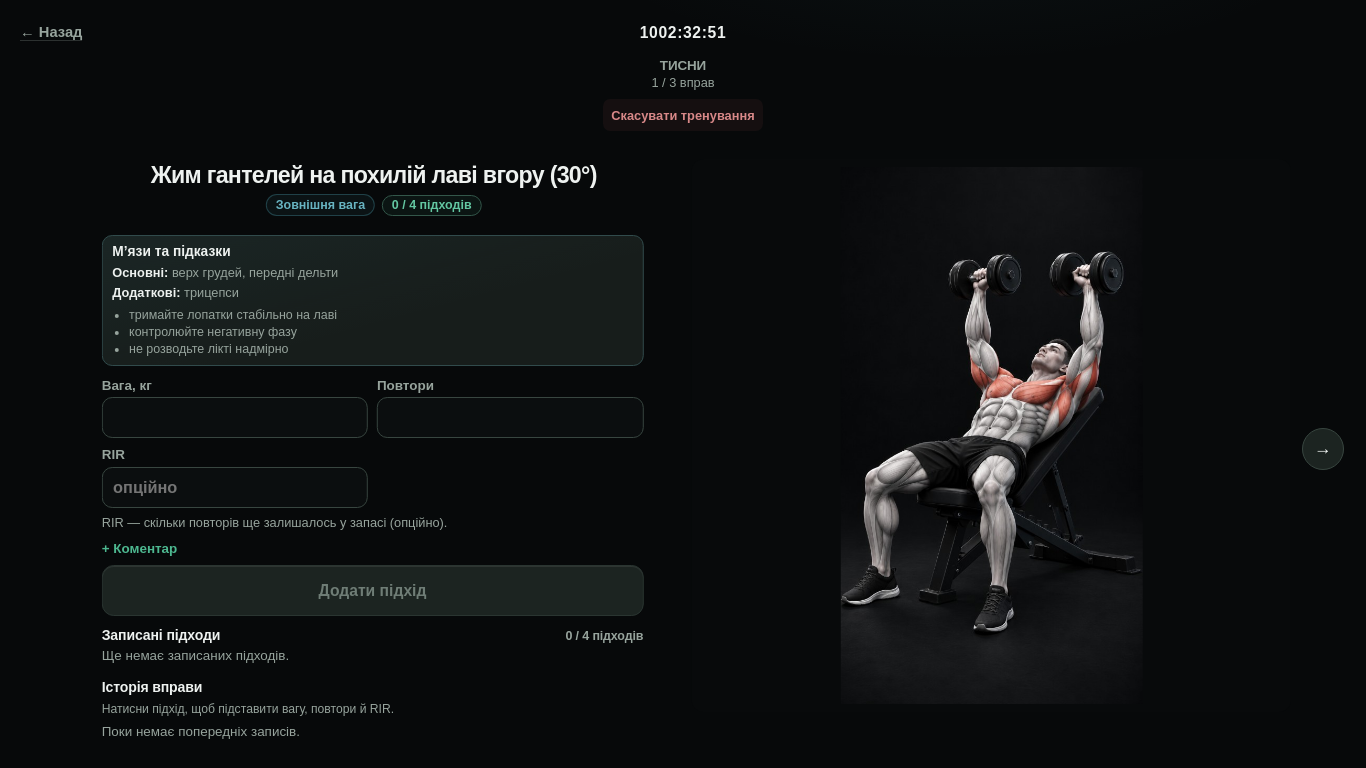
it: Live training session mobile UI › requires explicit confirmation before creating a new intent after a pre-write conflict
Expected: the text "ТИСНИ" is shown, [660,58,706,73]
In the field labelled "Вага, кг": (235, 418) [102,397,368,438], type "30"
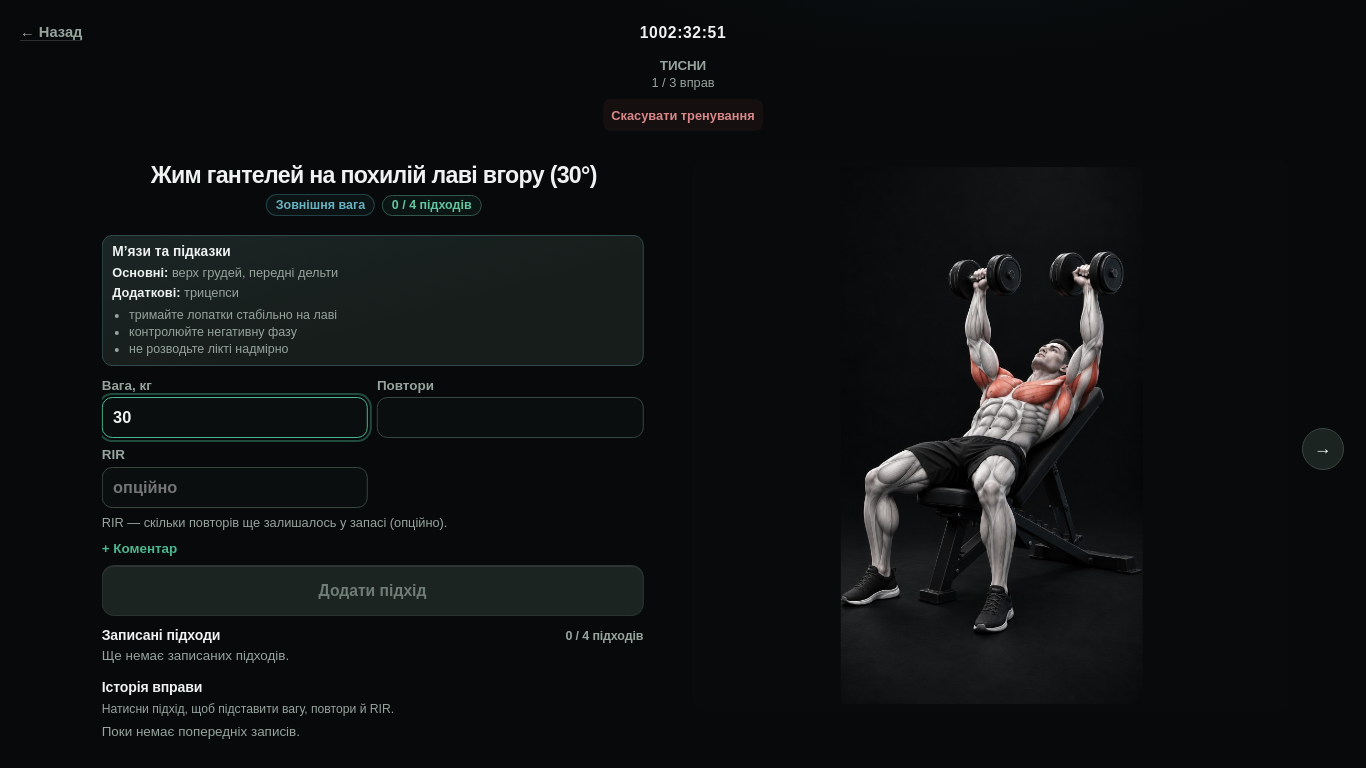
In the field labelled "Повтори": (510, 418) [377,397,644,438], type "12"
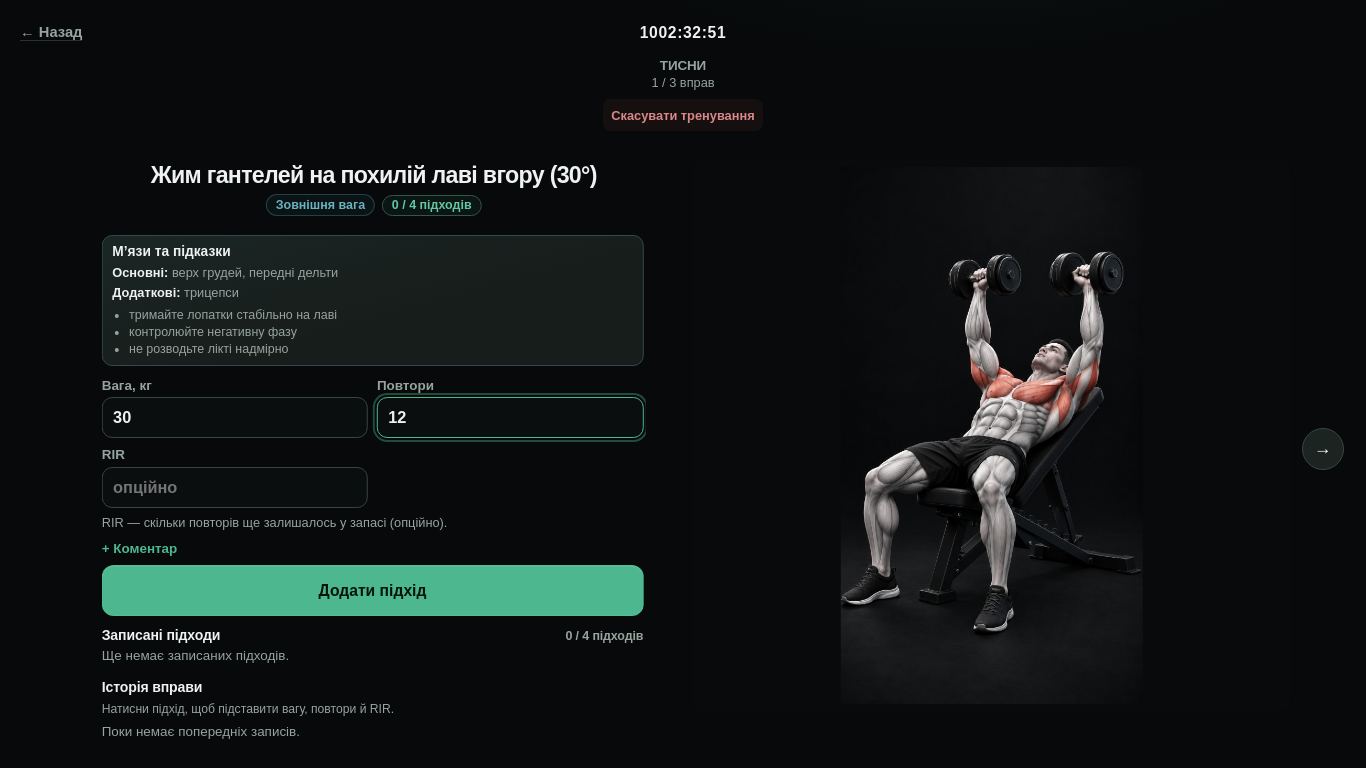
Click the button "Додати підхід": (373, 590) [102,565,644,616]
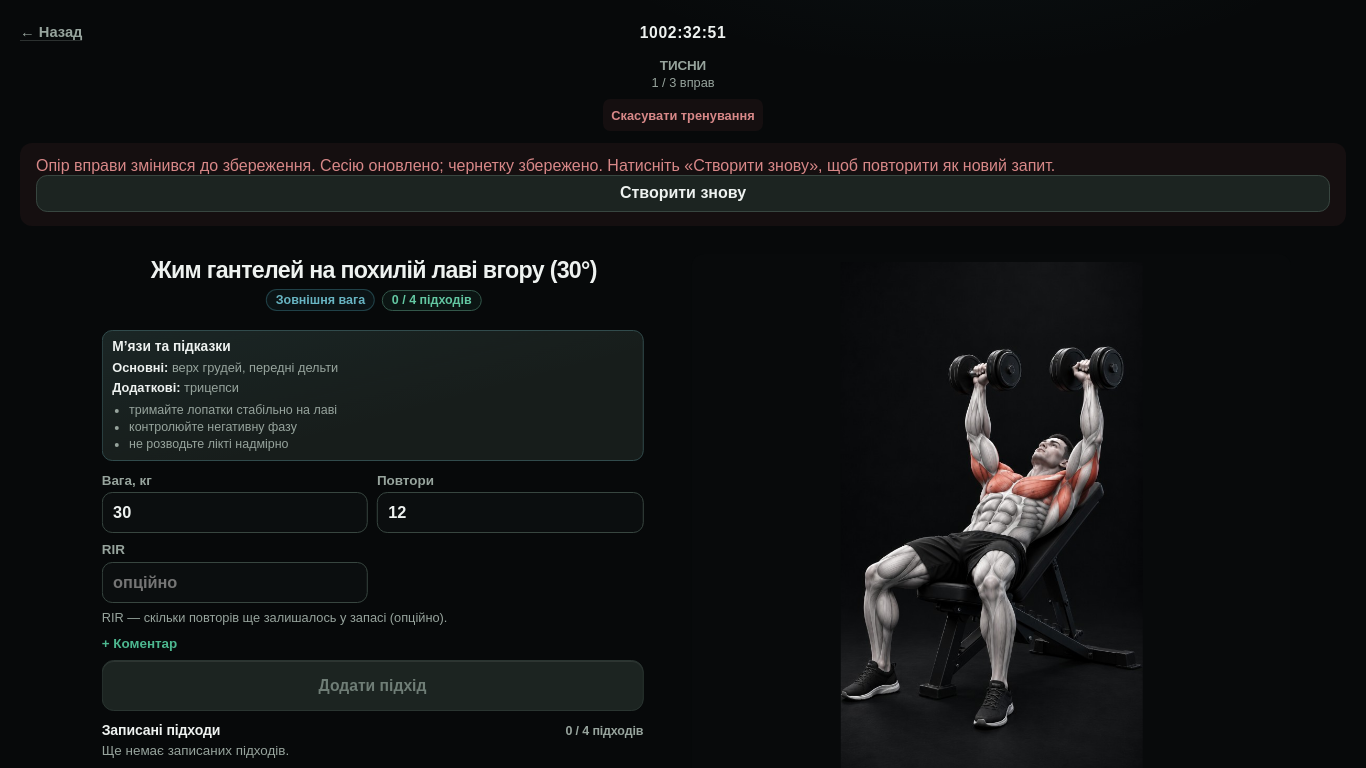
Click the button "Створити знову": (683, 194) [36,175,1330,212]
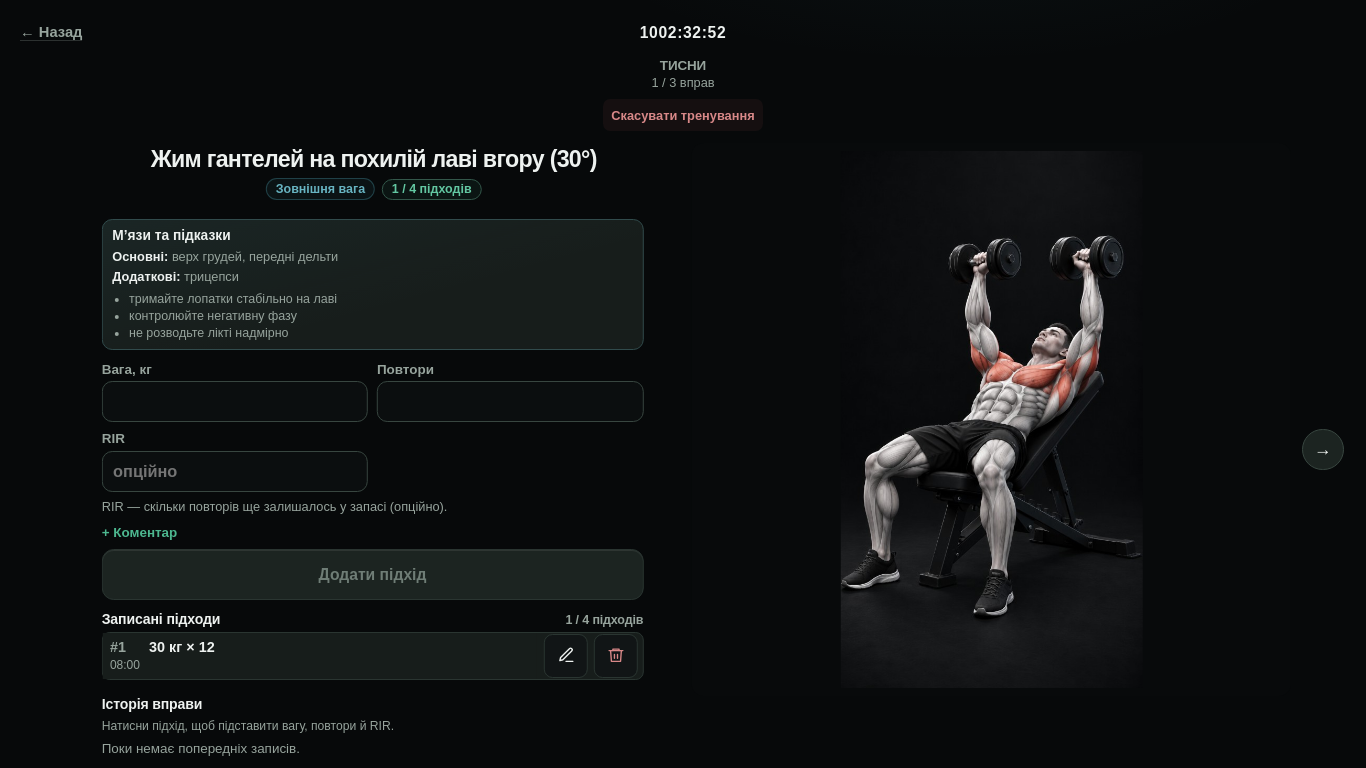
Expected: the text "30 кг × 12" is shown, [150,639,215,655]
